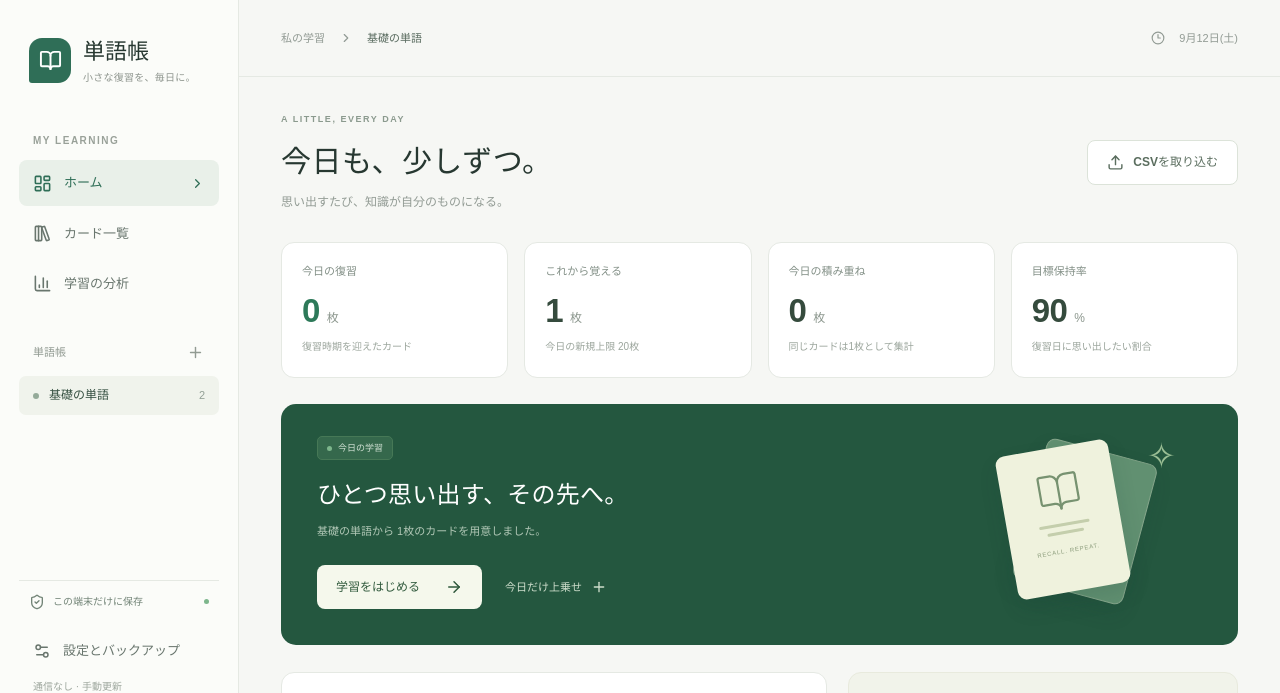
it: learning flow › keeps the question, choices and answer across the one-minute timer (revealed: false)
Click the button "学習をはじめる" at (400, 587), box [317,565,482,609]
Wait 60000 ms
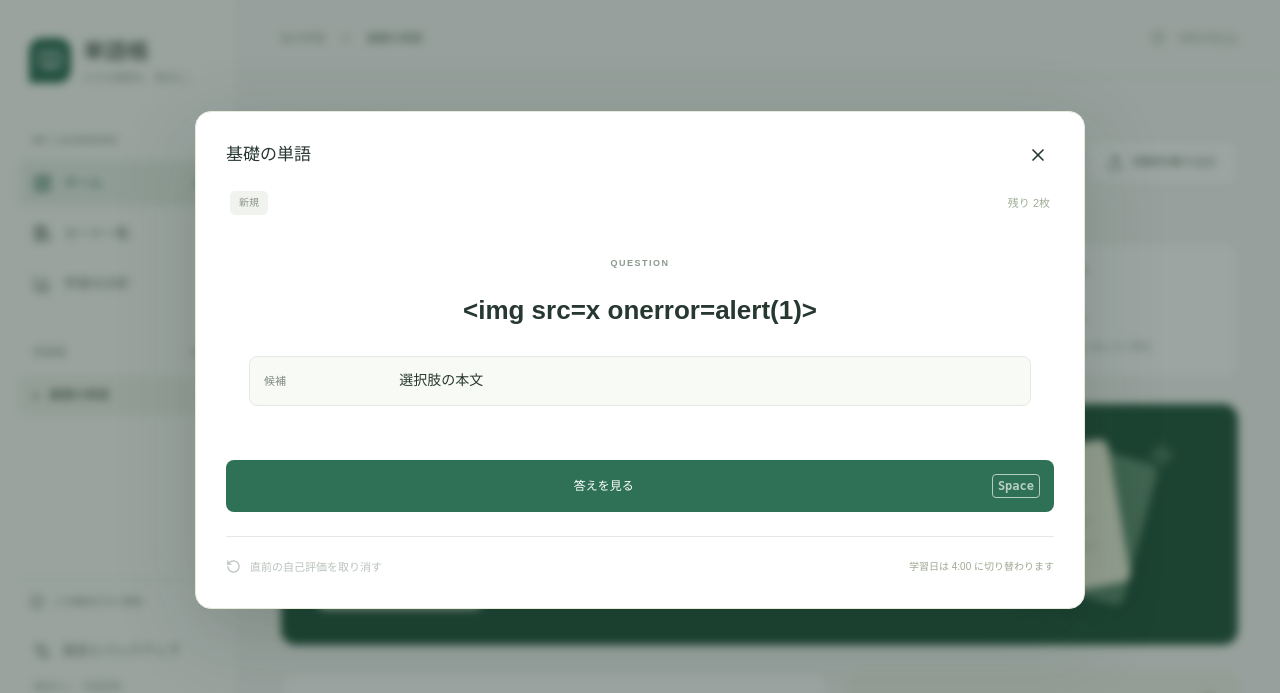
Now the text "残り 2枚" is shown, box [1008,194,1050,212]
Now the heading "<img src=x onerror=alert(1)>" is shown, box [463,294,817,324]
Now the list "選択肢" shows "選択肢の本文", box [399,372,483,388]
Press Space
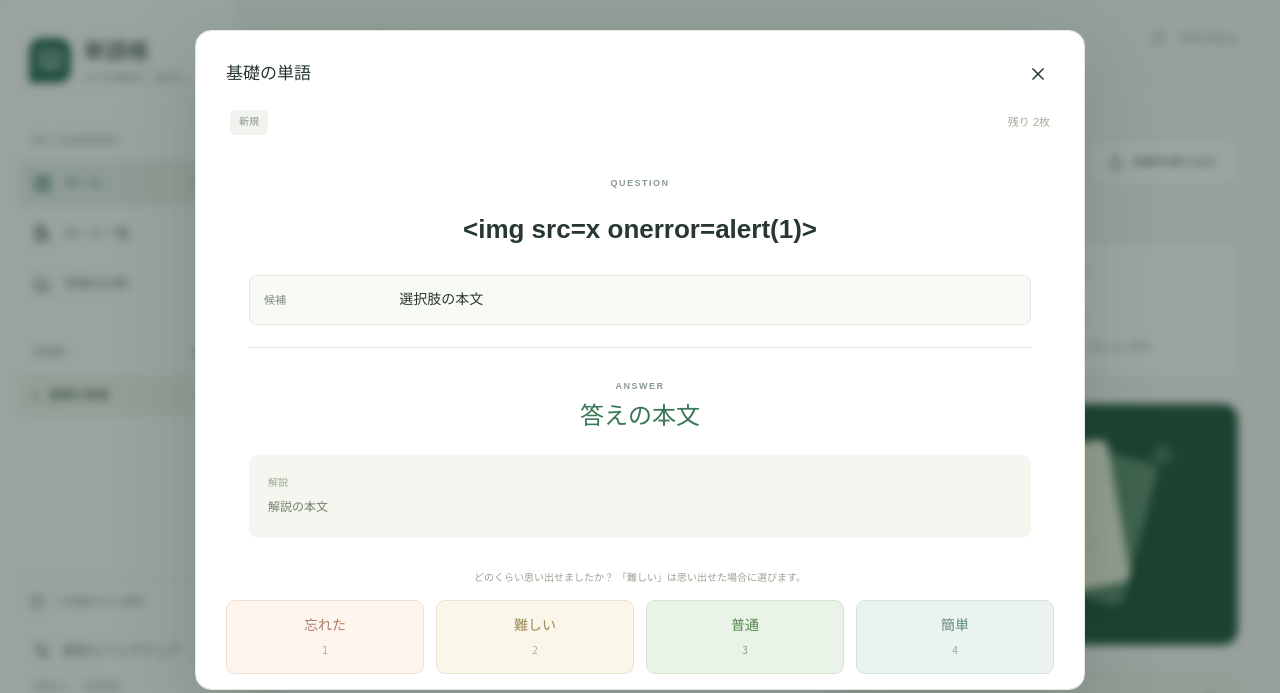
Press 3
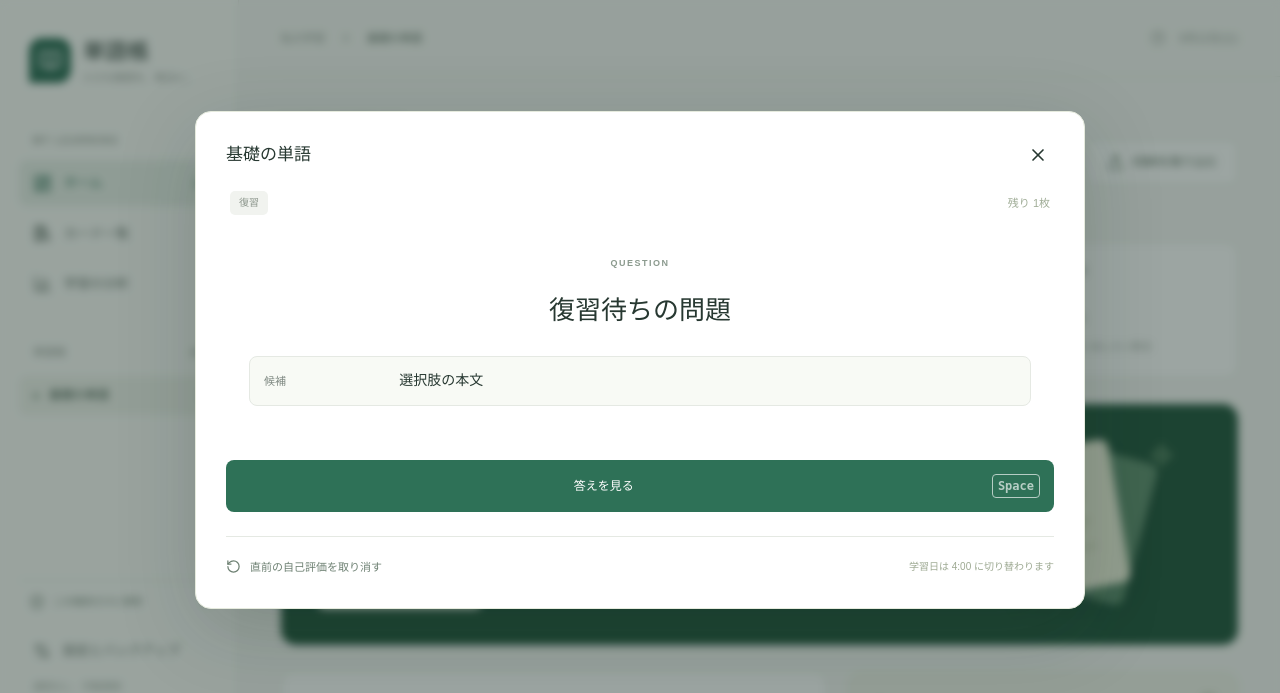
Now the heading "復習待ちの問題" is shown, box [549,294,731,324]
